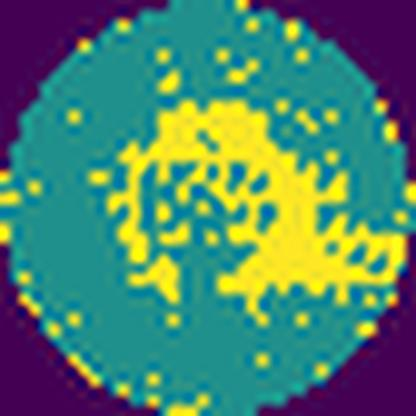Donut: (111, 99, 350, 312)
